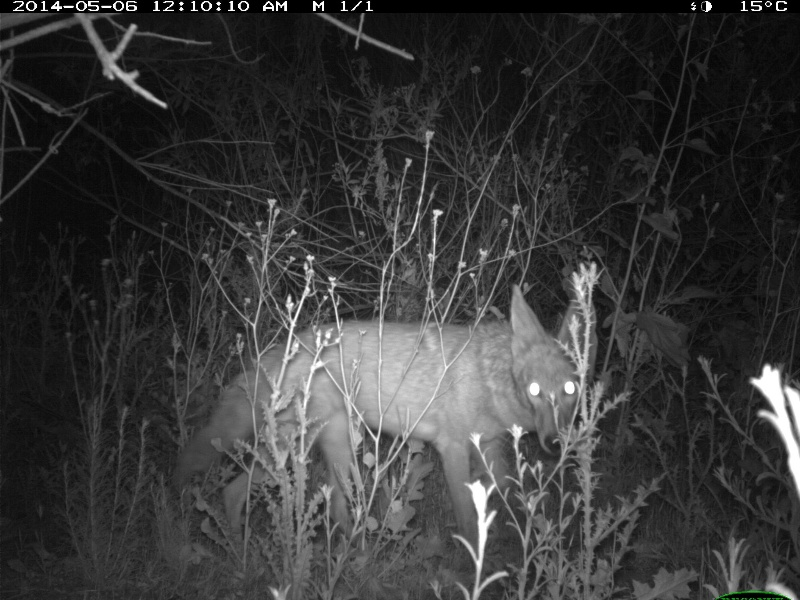coyote: (170, 276, 608, 566)
